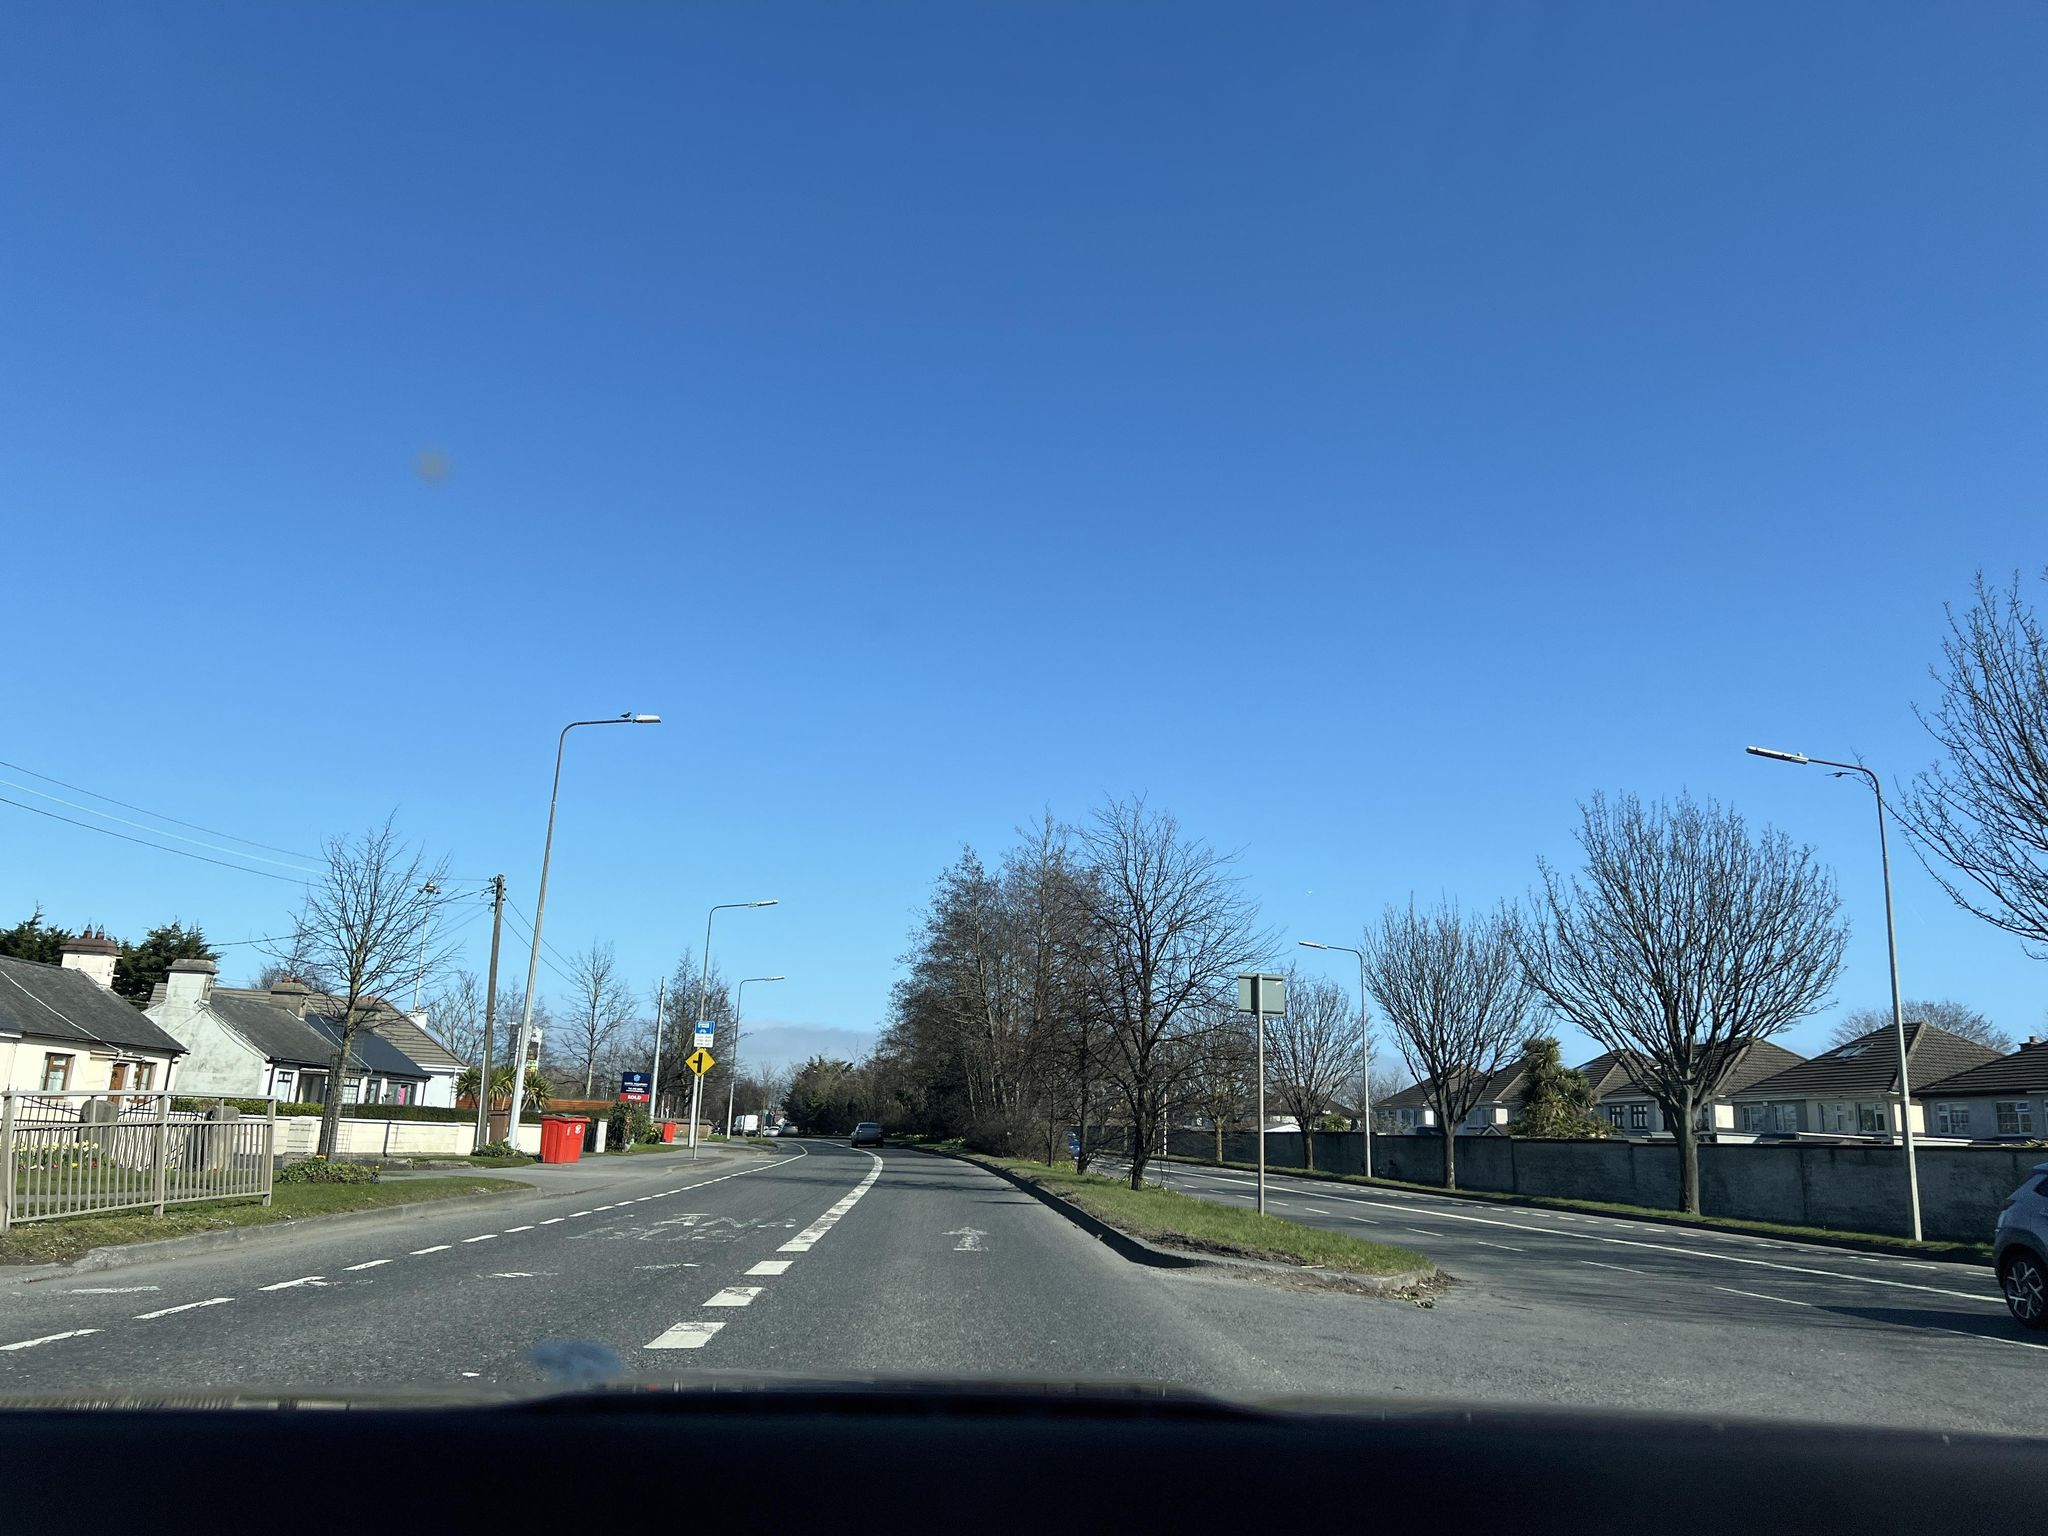property sign: (601, 1055, 663, 1105)
